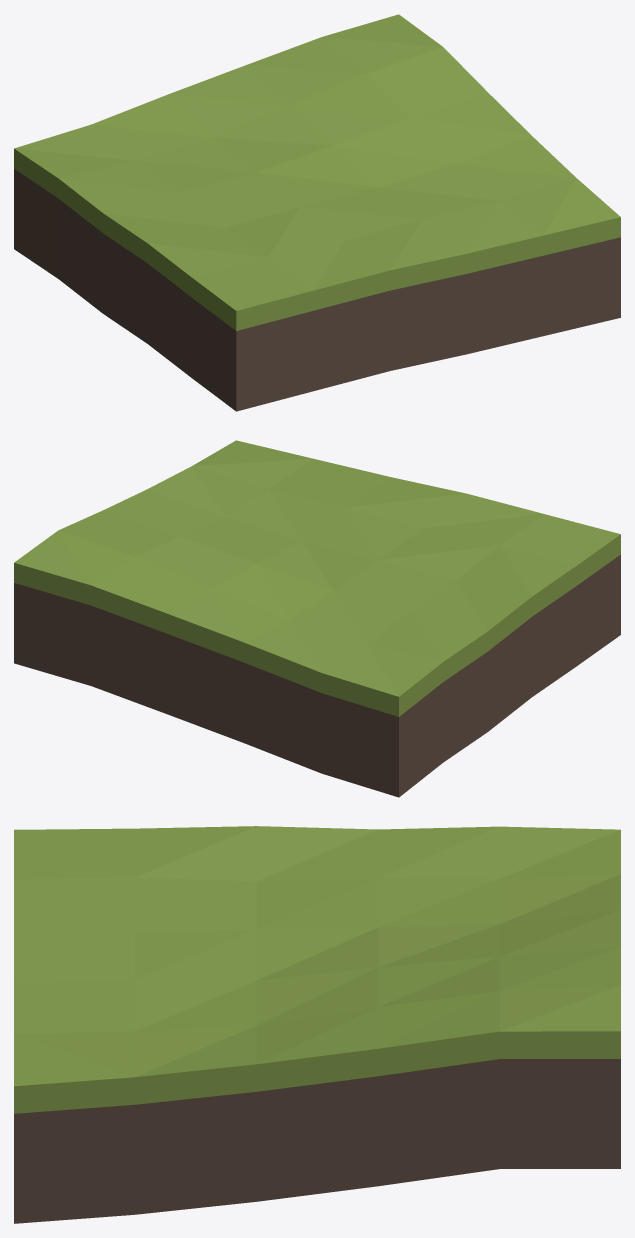
The model's file is terrain-world-hill_01-1.fbx.
3 renders of one model, top to bottom at view 1: azimuth 30°, elevation 25°; view 2: azimuth 150°, elevation 25°; view 3: azimuth 270°, elevation 25°, orthographic. The views are drawn at different scales.
Visible parts, largest first — view 1: terrain-world-hill_01-1; view 2: terrain-world-hill_01-1; view 3: terrain-world-hill_01-1.
Part boxes in pixels (x1,y1,x2,y2): terrain-world-hill_01-1: (14, 14, 620, 411); terrain-world-hill_01-1: (14, 440, 620, 797); terrain-world-hill_01-1: (14, 826, 620, 1223).
Size of the model in its own units: 2001 by 700 by 2000.
